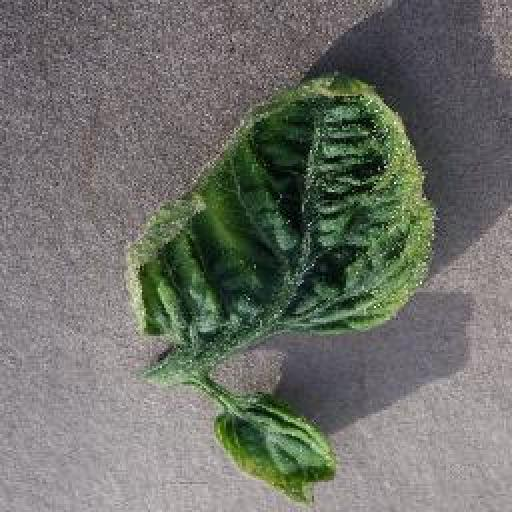disease_tomato: (127, 72, 440, 341), (212, 395, 342, 504)
